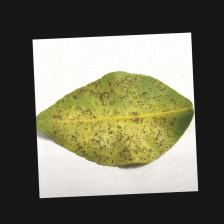canker: (73, 95, 158, 155)
